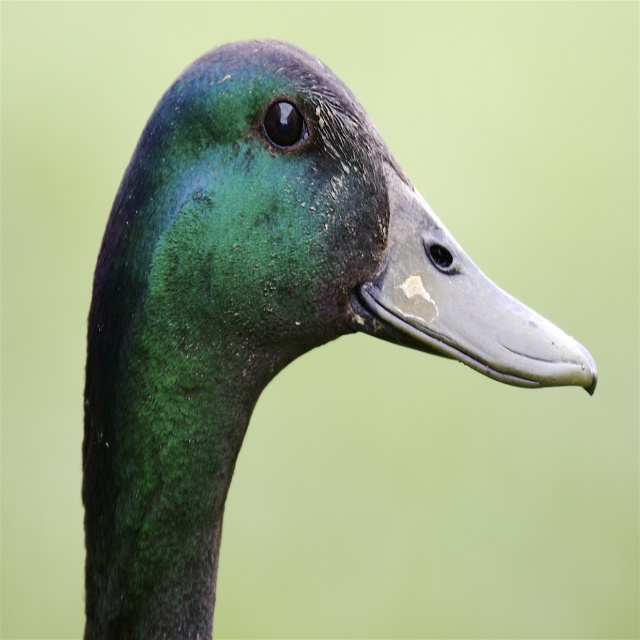Goose: (88, 35, 596, 639)
